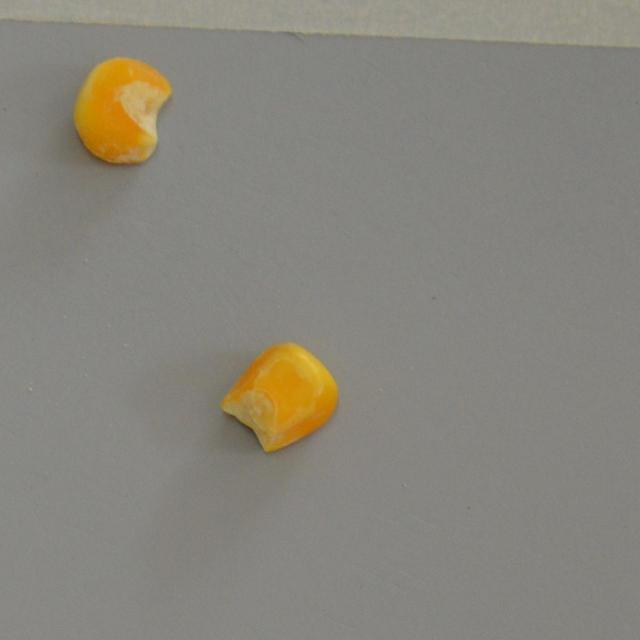dañado: (215, 338, 342, 455)
pelicula: (70, 54, 175, 167)
